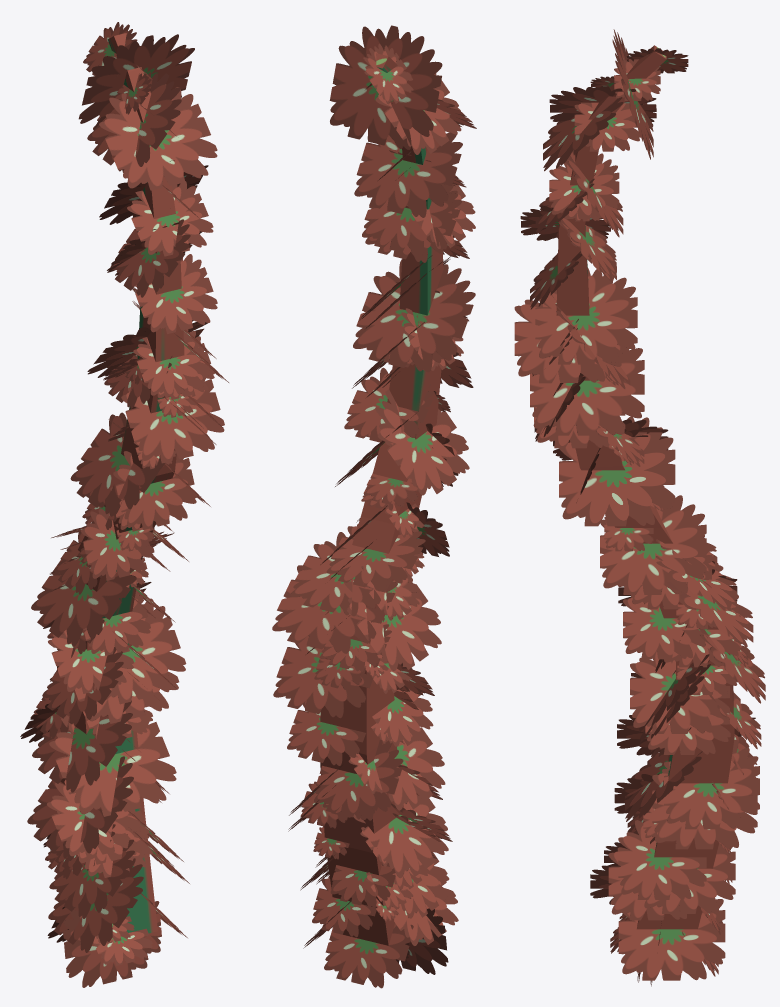
File: BushLargeCrimson.fbx
The picture shows the model from 3 angles, left to right: view 1: azimuth 30°, elevation 25°; view 2: azimuth 150°, elevation 25°; view 3: azimuth 270°, elevation 25°; orthographic projection. The views are drawn at different scales.
Visible parts, largest first — view 1: Cube; view 2: Cube; view 3: Cube.
Part boxes in pixels (x1,y1,x2,y2): Cube: [20, 22, 228, 987]; Cube: [272, 25, 476, 988]; Cube: [514, 29, 765, 986].
Size of the model in its own units: 38.29 by 259 by 62.46.
